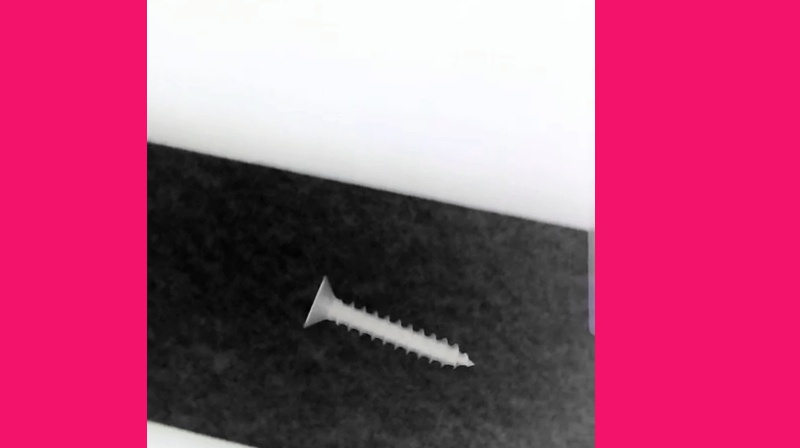S001: (299, 272, 478, 368)
